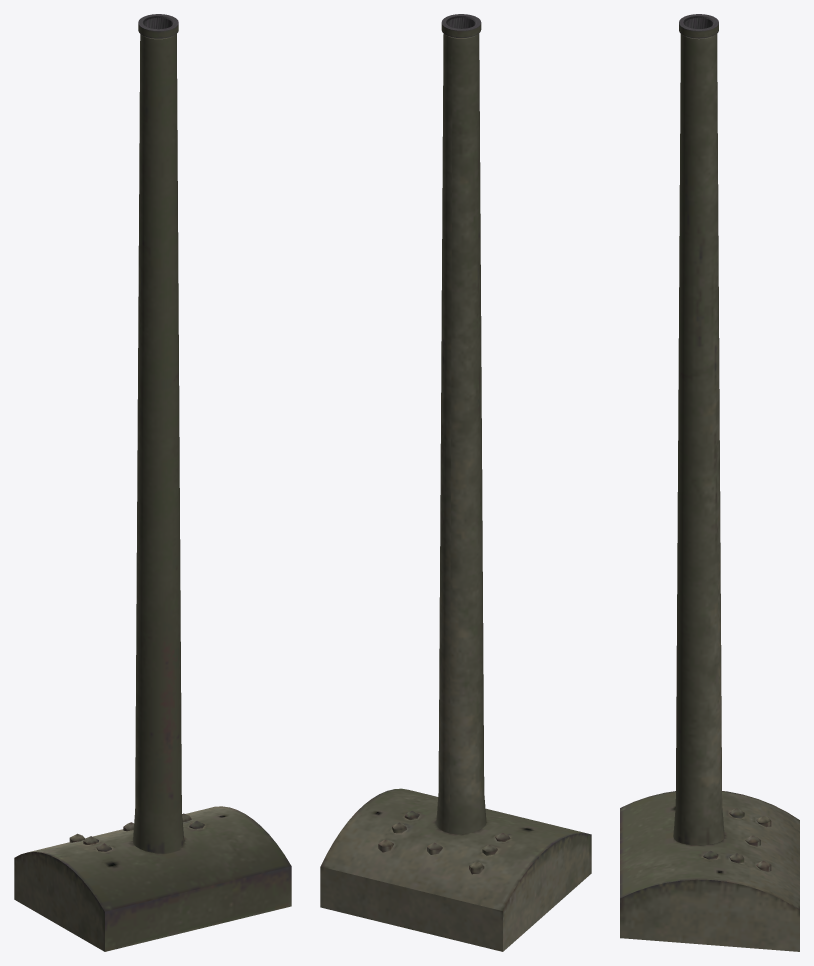
The model's file is Gun_07.glb.
The picture shows the model from 3 angles, left to right: view 1: azimuth 30°, elevation 25°; view 2: azimuth 150°, elevation 25°; view 3: azimuth 270°, elevation 25°; orthographic projection. The views are drawn at different scales.
Parts seen in each view (by area): view 1: set_0_group_0; view 2: set_0_group_0; view 3: set_0_group_0.
Boxes of the visible parts, bbox=[...] form: set_0_group_0: bbox=[14, 14, 291, 951]; set_0_group_0: bbox=[320, 14, 591, 951]; set_0_group_0: bbox=[620, 14, 799, 951].
Bounding box in the file's own units: 0.7979 × 3.64 × 0.6705.
Materials: 1 (1 with a texture image).
